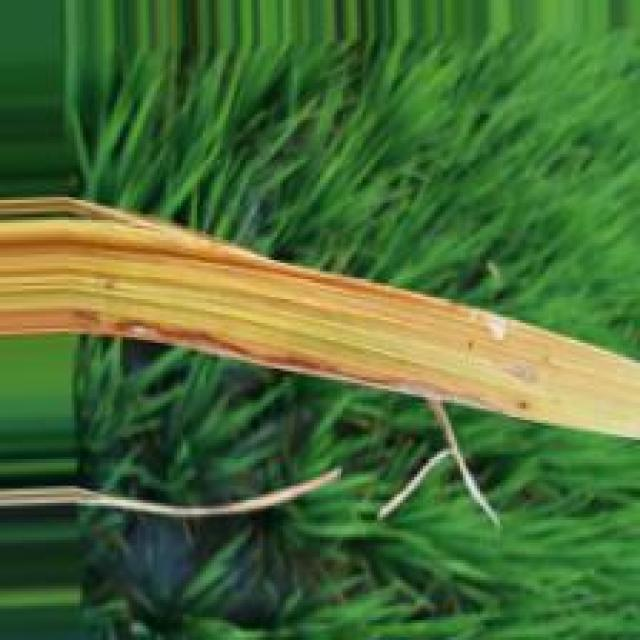Bacterial_Leaf_Blight: (0, 199, 640, 440)
